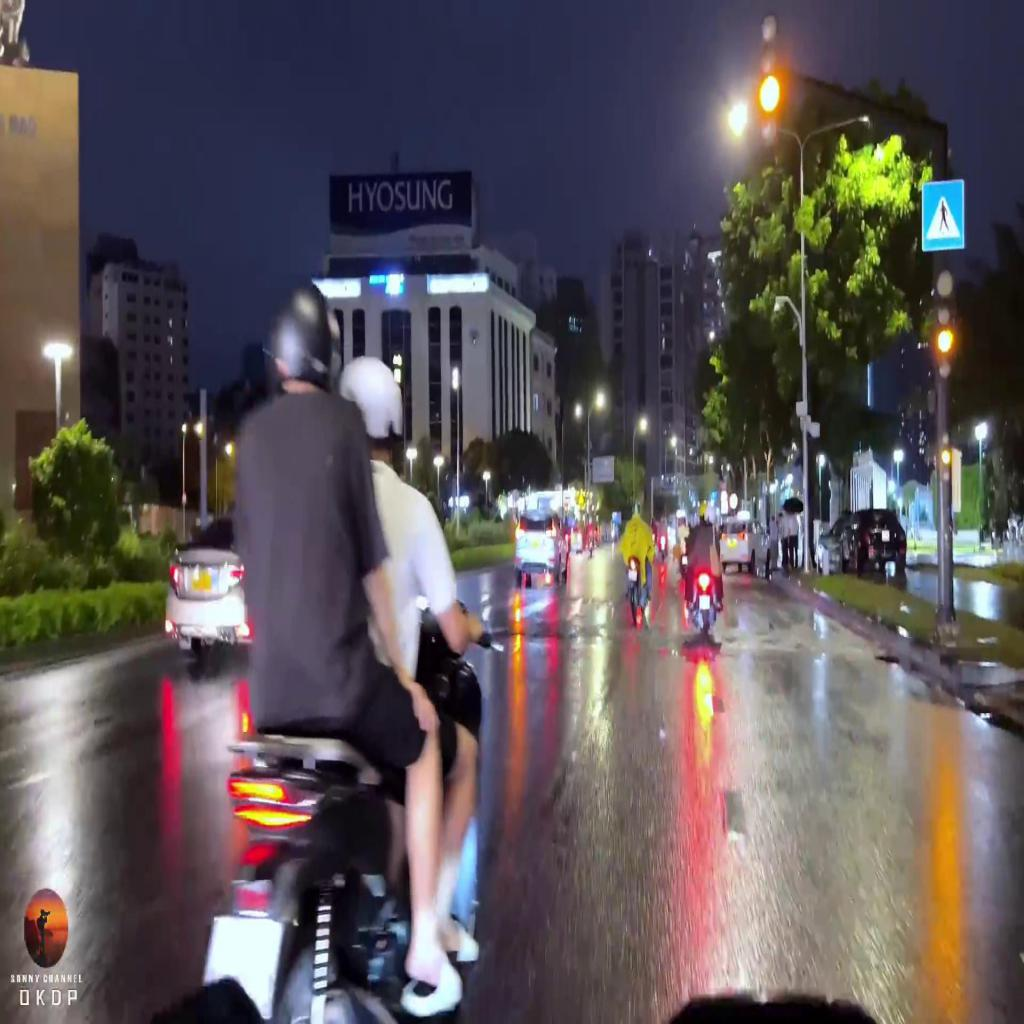duong_nguoi_di_bo_sang_ngang: (922, 182, 964, 250)
